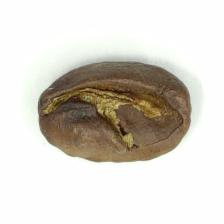NG: (40, 73, 188, 152)
